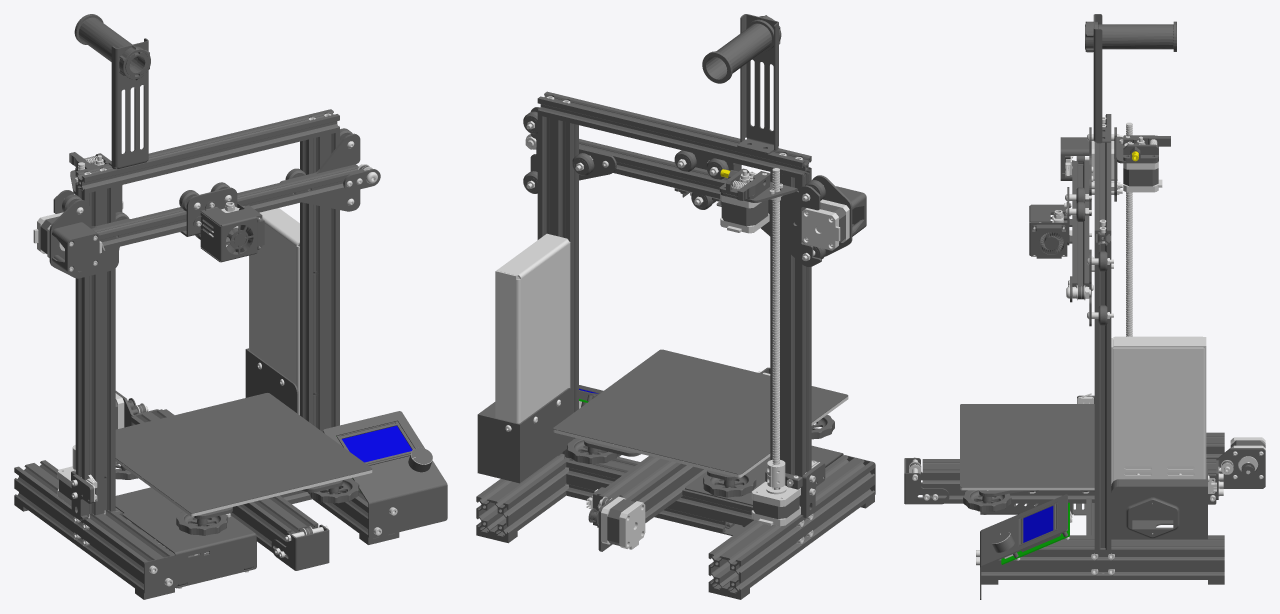
The model's file is creality-ender-3-pro.glb.
The picture shows the model from 3 angles, left to right: view 1: azimuth 30°, elevation 25°; view 2: azimuth 150°, elevation 25°; view 3: azimuth 270°, elevation 25°; orthographic projection. The views are drawn at different scales.
Visible parts, largest first — view 1: 3DGeom-246, 3DGeom-138, 3DGeom-141, 3DGeom-8, 3DGeom-181, 3DGeom-184, 3DGeom-169, 3DGeom-134, 3DGeom-128, 3DGeom-10, 3DGeom-182, 3DGeom-36 (+14 smaller); view 2: 3DGeom-246, 3DGeom-8, 3DGeom-184, 3DGeom-138, 3DGeom-134, 3DGeom-141, 3DGeom-1, 3DGeom-185, 3DGeom-183, 3DGeom-10, 3DGeom-182, 3DGeom-128 (+18 smaller); view 3: 3DGeom-7, 3DGeom-246, 3DGeom-183, 3DGeom-1, 3DGeom-141, 3DGeom-182, 3DGeom-8, 3DGeom-169, 3DGeom-9, 3DGeom-134, 3DGeom-128, 3DGeom-219 (+16 smaller).
Boxes of the visible parts, x1,y1,x2,y2 form: 3DGeom-246: (115, 393, 372, 513); 3DGeom-138: (75, 186, 115, 516); 3DGeom-141: (300, 132, 339, 431); 3DGeom-8: (249, 208, 299, 414); 3DGeom-181: (115, 487, 255, 594); 3DGeom-184: (14, 460, 174, 594); 3DGeom-169: (323, 411, 447, 538); 3DGeom-134: (75, 109, 339, 193); 3DGeom-128: (91, 164, 364, 250); 3DGeom-10: (108, 38, 148, 169); 3DGeom-182: (131, 409, 318, 557); 3DGeom-36: (193, 201, 257, 262); 3DGeom-246: (553, 349, 848, 474); 3DGeom-8: (495, 233, 570, 423); 3DGeom-184: (708, 455, 874, 594); 3DGeom-138: (770, 172, 811, 514); 3DGeom-134: (537, 91, 811, 179); 3DGeom-141: (537, 115, 578, 458); 3DGeom-1: (477, 388, 572, 483); 3DGeom-185: (566, 451, 753, 533); 3DGeom-183: (476, 447, 621, 537); 3DGeom-10: (737, 14, 778, 154); 3DGeom-182: (597, 456, 706, 527); 3DGeom-128: (579, 139, 728, 198); 3DGeom-7: (1113, 346, 1204, 481); 3DGeom-246: (960, 404, 1094, 487); 3DGeom-183: (981, 535, 1224, 579); 3DGeom-1: (1111, 468, 1207, 539); 3DGeom-141: (1094, 241, 1111, 549); 3DGeom-182: (922, 459, 1216, 503); 3DGeom-8: (1111, 336, 1206, 485); 3DGeom-169: (980, 494, 1067, 599); 3DGeom-9: (1085, 21, 1176, 51); 3DGeom-134: (1094, 114, 1111, 245); 3DGeom-128: (1072, 161, 1089, 298); 3DGeom-219: (1216, 448, 1265, 499).
Bounding box in the file's own units: 0.4403 × 0.6164 × 0.4312.
